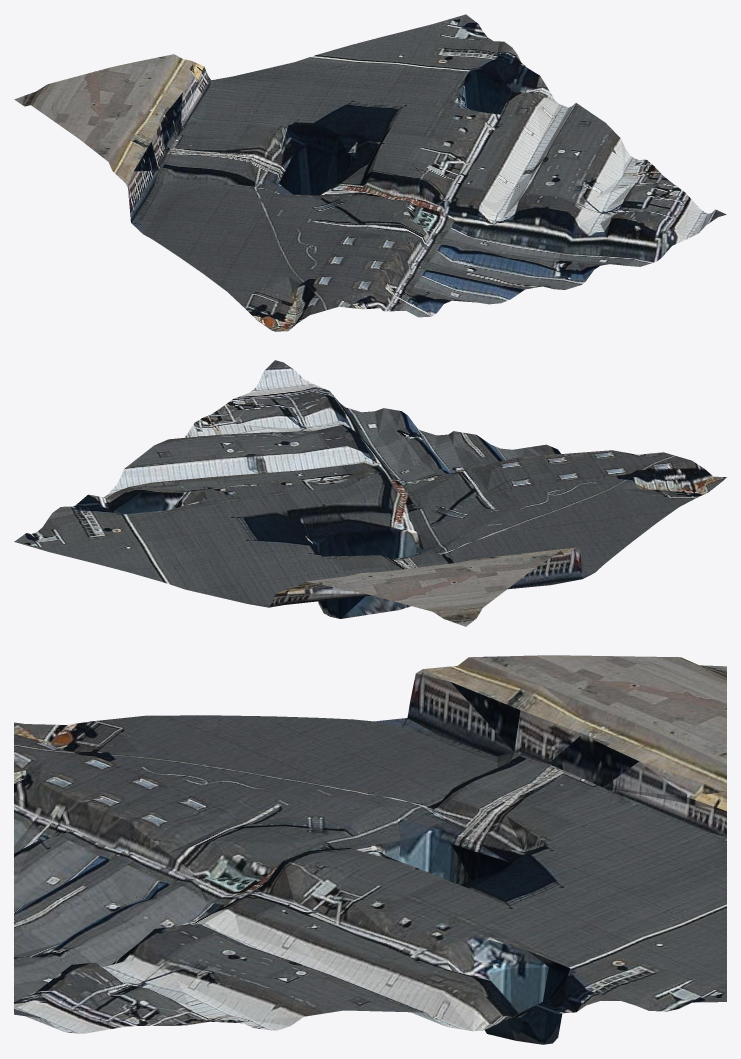
File: map_15_8182_13785.dae
3 views of the same model, one above another, from view 1: azimuth 30°, elevation 25°; view 2: azimuth 150°, elevation 25°; view 3: azimuth 270°, elevation 25° (orthographic). The views are drawn at different scales.
Parts seen in each view (by area): view 1: Ter0; view 2: Ter0; view 3: Ter0.
Part boxes in pixels (x1,y1,x2,y2): Ter0: (14, 14, 726, 331); Ter0: (14, 360, 726, 626); Ter0: (14, 655, 726, 1044).
Size of the model in its own units: 63.88 by 63.88 by 15.02.
Materials: 2 (2 with a texture image).
